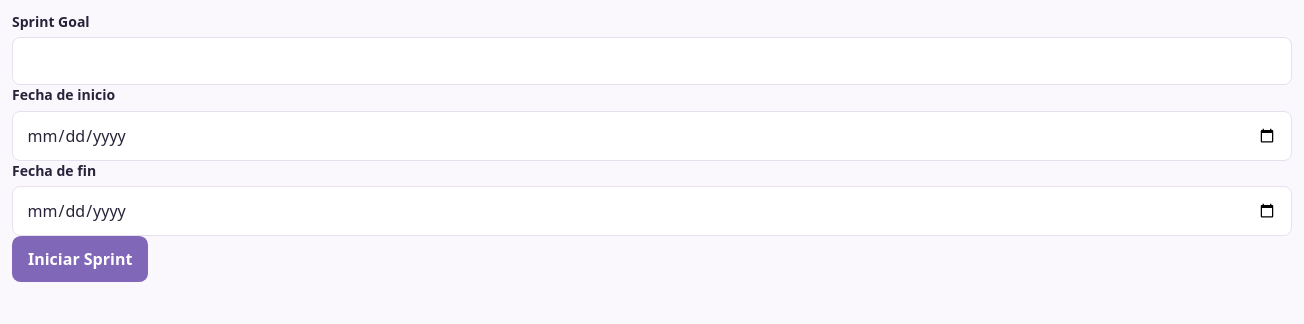
Scenario: FormularioInicio › muestra junto al campo el error de un campo del formulario
Type "Meta" into the field labelled "Sprint Goal" at (652, 61), box left=12, top=37, right=1292, bottom=85
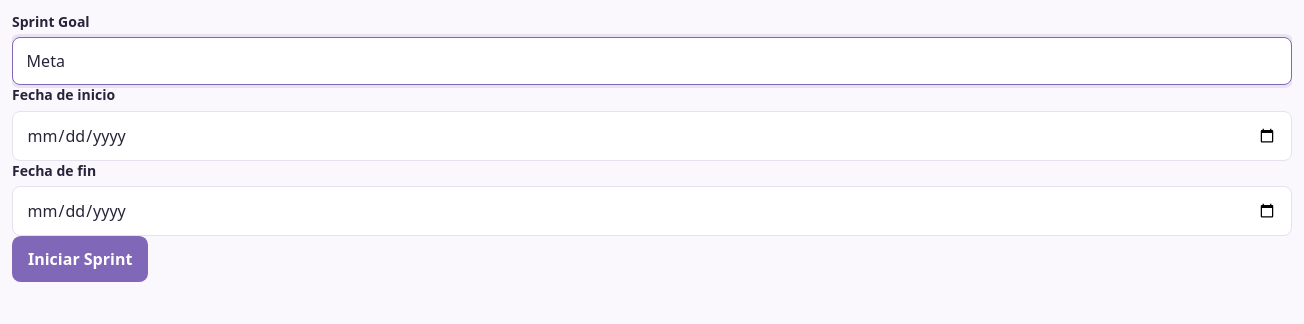
Type "2026-10-01" into the date field labelled "Fecha de inicio" at (652, 136), box left=12, top=111, right=1292, bottom=161
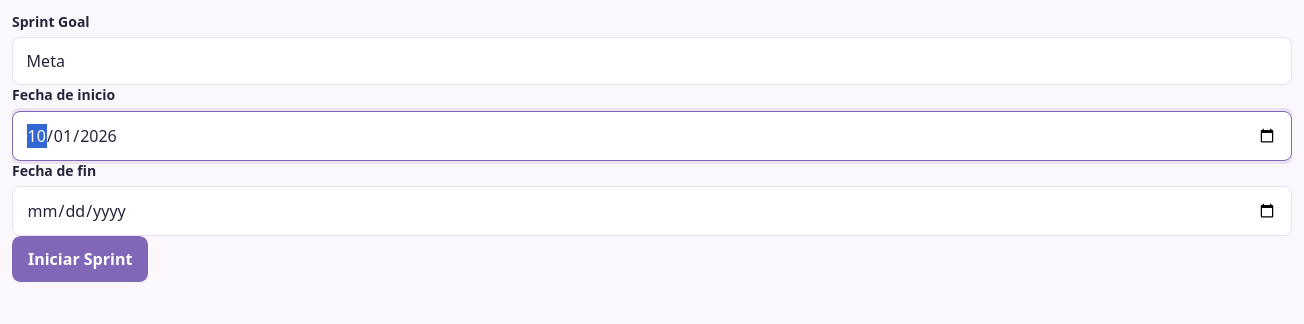
Type "2026-10-15" into the date field labelled "Fecha de fin" at (652, 211), box left=12, top=186, right=1292, bottom=236
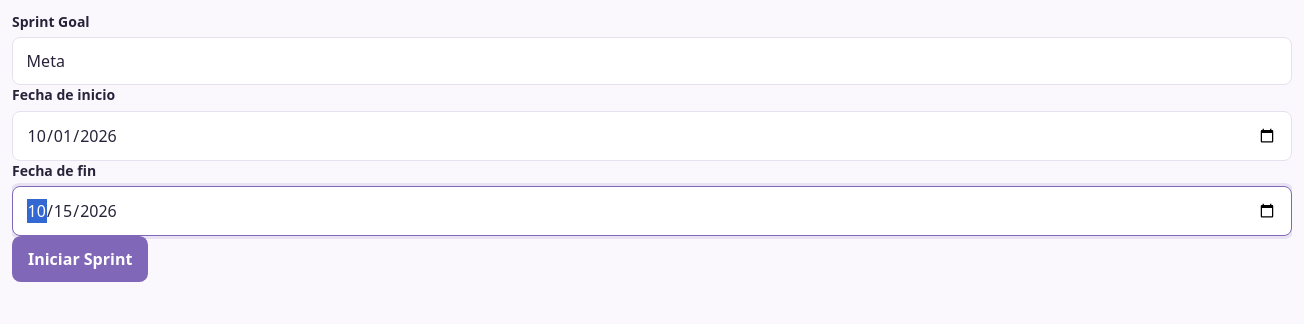
Click the button "Iniciar Sprint" at (80, 259), box left=12, top=236, right=148, bottom=282
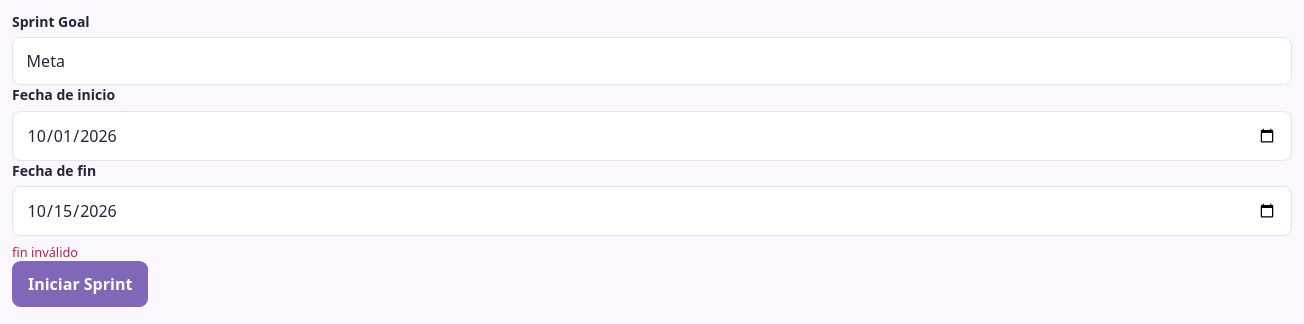
expect the message "fin inválido" is shown: met, box left=12, top=243, right=78, bottom=261
